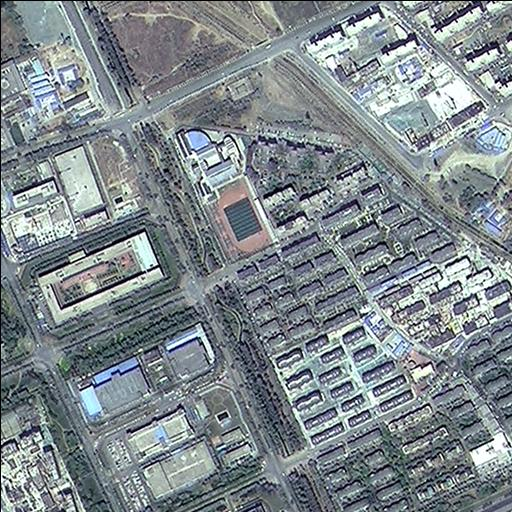school: (173, 124, 271, 262)
